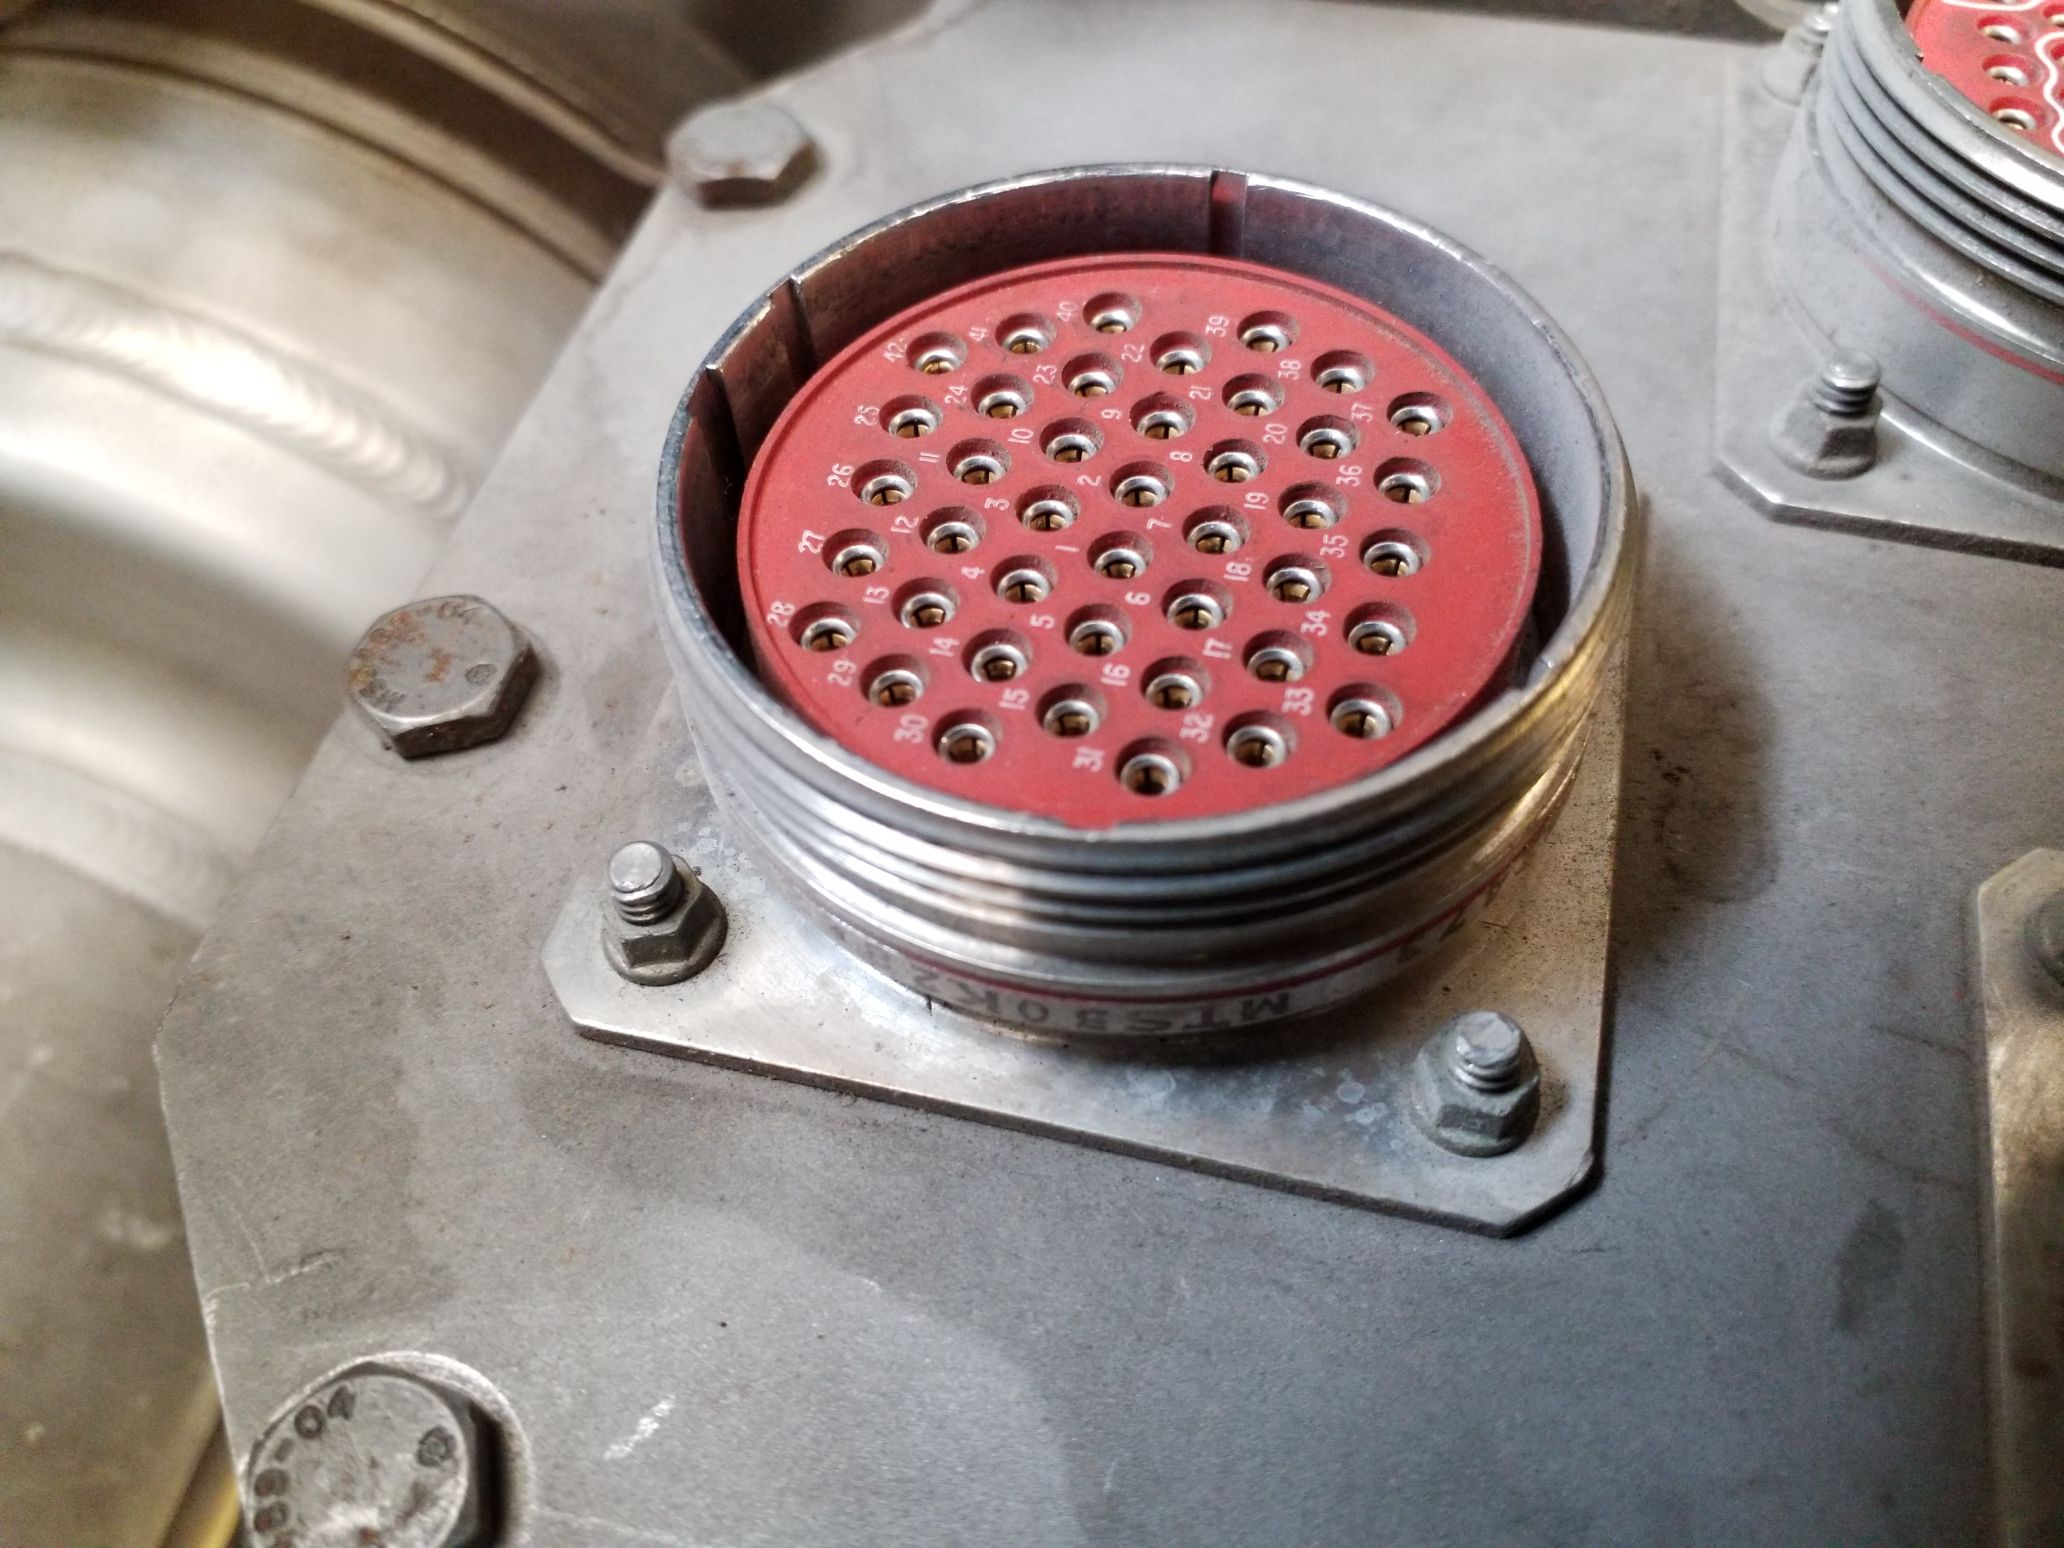inletnumbers: (647, 128, 1633, 924)
